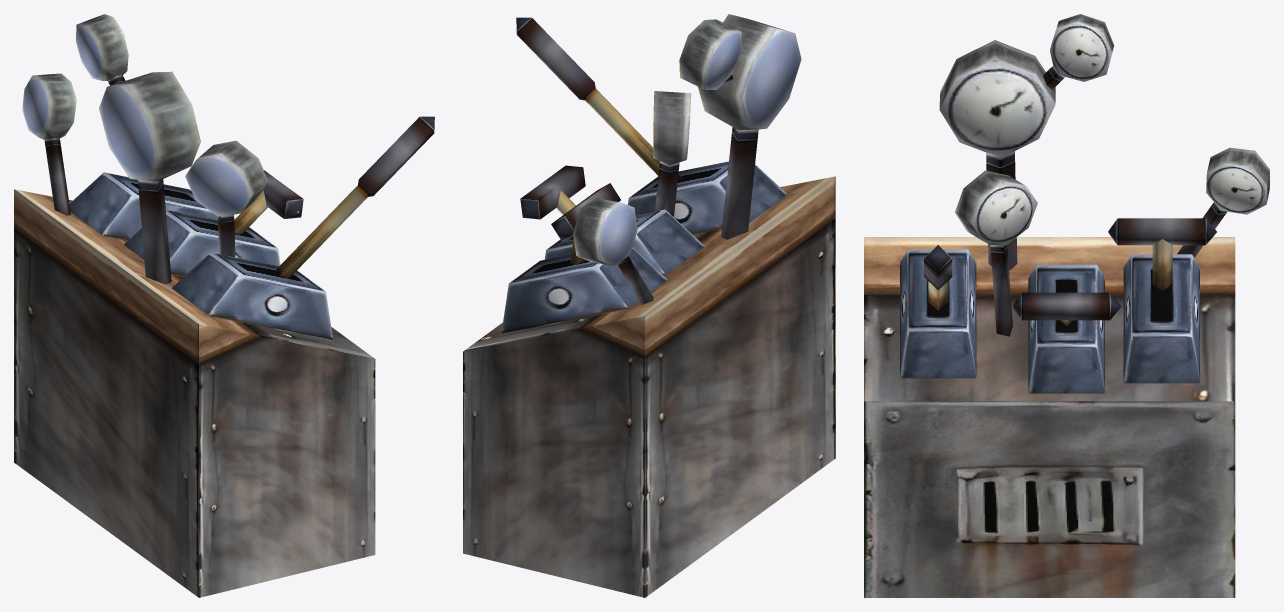
The model's file is goblincontrolpanel.obj.
The picture shows the model from 3 angles, left to right: view 1: azimuth 30°, elevation 25°; view 2: azimuth 150°, elevation 25°; view 3: azimuth 270°, elevation 25°; orthographic projection. The views are drawn at different scales.
Parts seen in each view (by area): view 1: goblincontrolpanel; view 2: goblincontrolpanel; view 3: goblincontrolpanel.
Part boxes in pixels (x1,y1,x2,y2): goblincontrolpanel: [14, 14, 434, 597]; goblincontrolpanel: [463, 14, 835, 597]; goblincontrolpanel: [864, 14, 1269, 597].
Bounding box in the file's own units: 1.28 × 2.17 × 1.6.
Materials: 1 (1 with a texture image).
